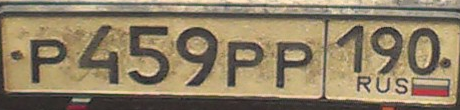character: (172, 23, 221, 90), (76, 23, 123, 91), (124, 24, 173, 89), (223, 38, 267, 93), (272, 36, 314, 93), (27, 36, 69, 87), (369, 23, 405, 79), (404, 23, 440, 77), (335, 23, 364, 77)
